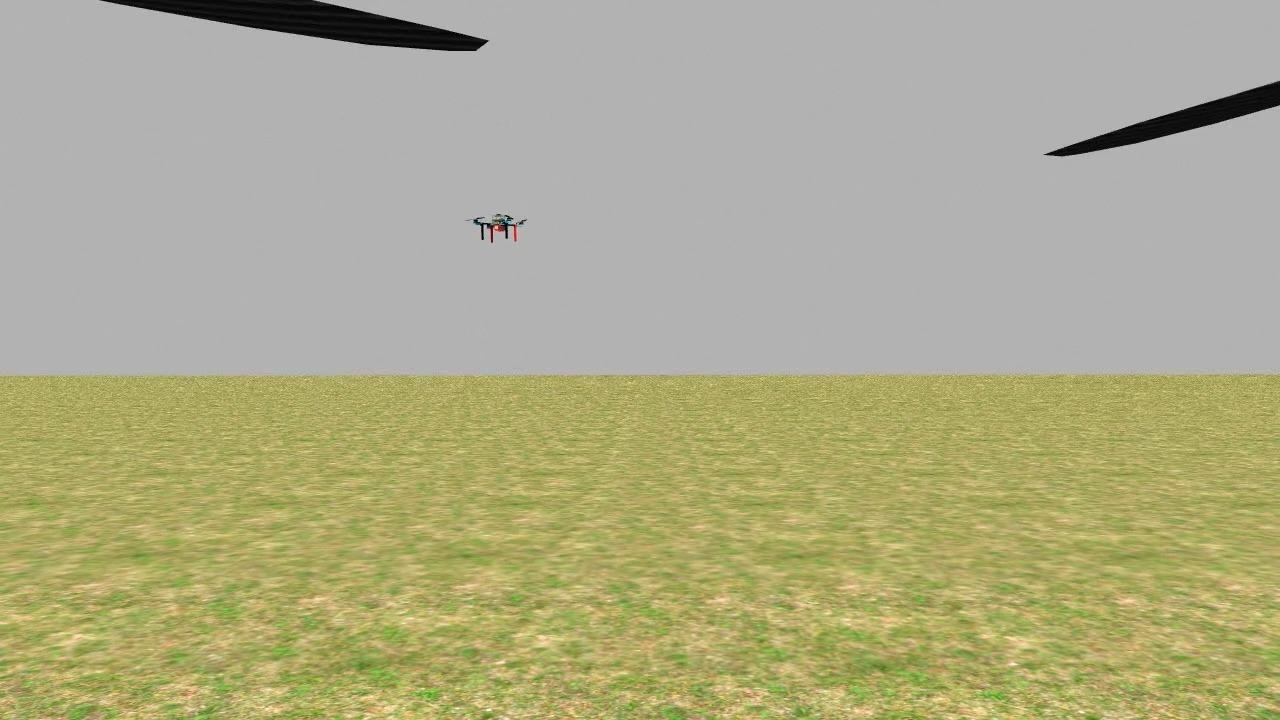UAV: (460, 204, 536, 254)
